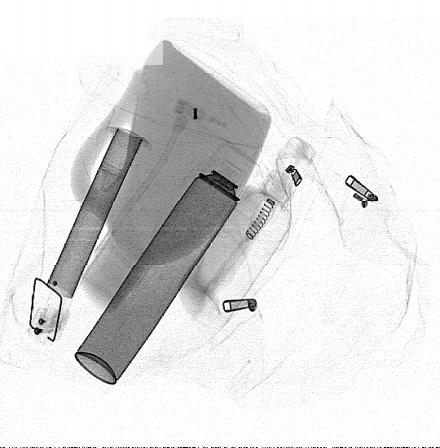Sprayer: (75, 142, 259, 386)
